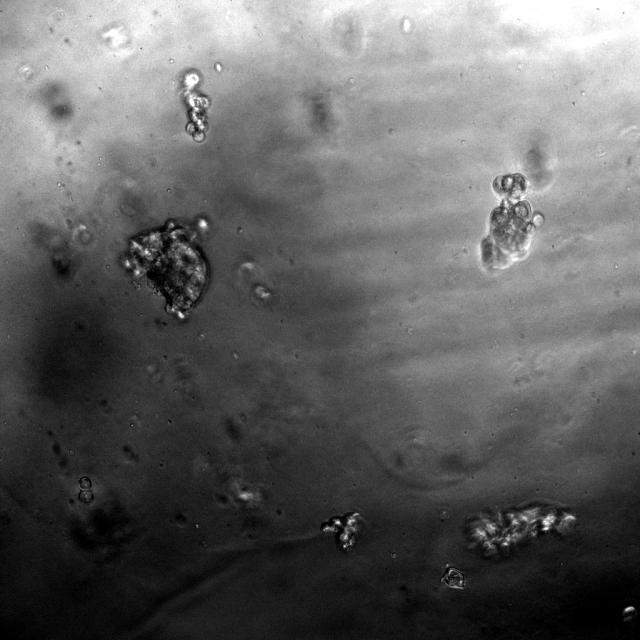organoid: (123, 219, 208, 319), (480, 171, 545, 272), (467, 502, 576, 557), (179, 68, 210, 142), (321, 512, 363, 551), (441, 566, 465, 587), (78, 476, 93, 503)
